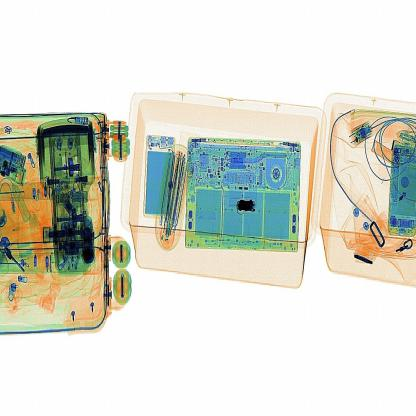scissors: (231, 191, 271, 228)
